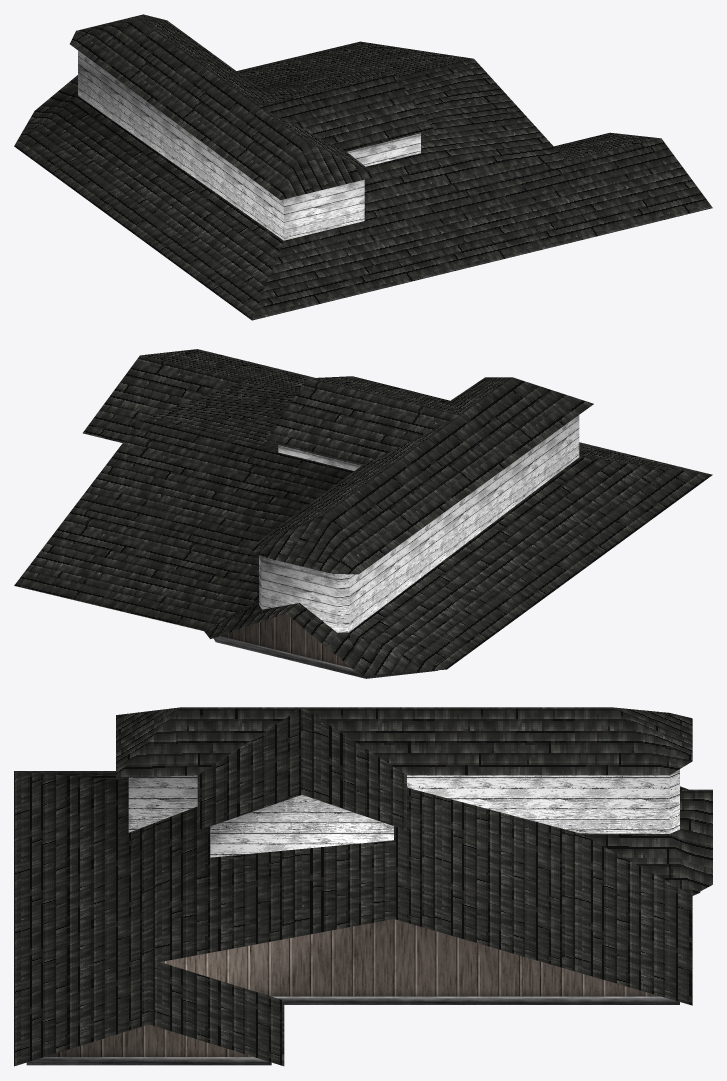
The model's file is roof7.obj.
3 views of the same model, one above another, from view 1: azimuth 30°, elevation 25°; view 2: azimuth 150°, elevation 25°; view 3: azimuth 270°, elevation 25° (orthographic). The views are drawn at different scales.
Parts seen in each view (by area): view 1: base7; view 2: base7; view 3: base7.
Boxes of the visible parts, left/top/right/bottom form: base7: left=14, top=14, right=712, bottom=320; base7: left=14, top=349, right=712, bottom=678; base7: left=14, top=707, right=712, bottom=1066.
Bounding box in the file's own units: 548 × 123 × 548.
